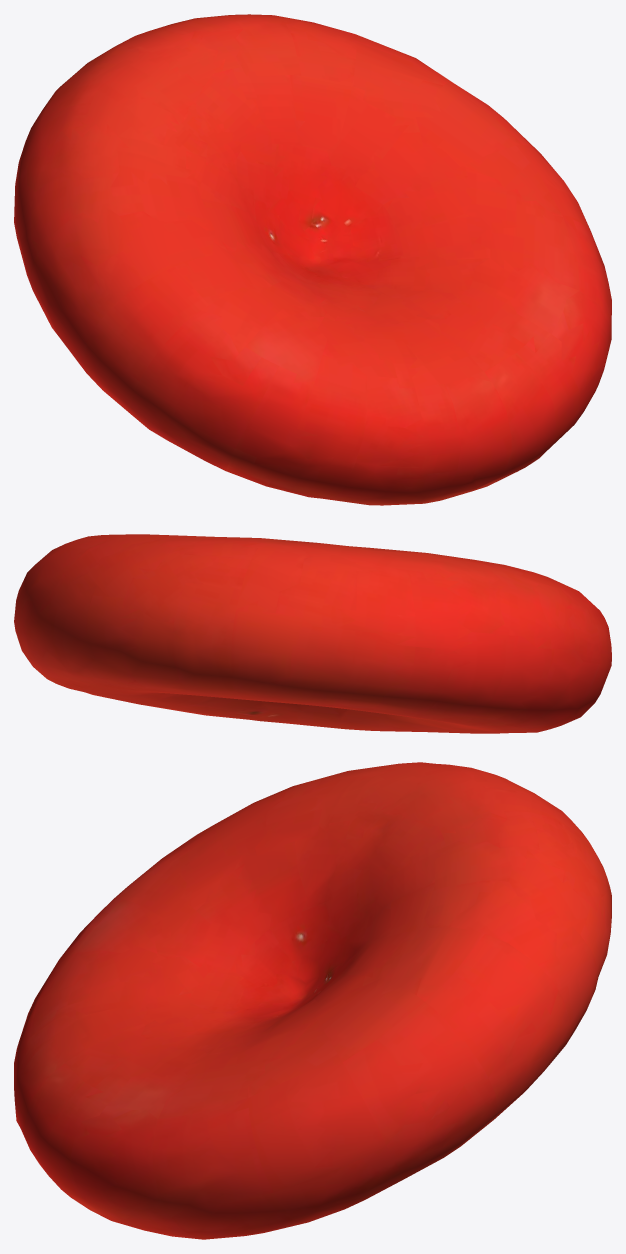
The model's file is rbc.glb.
The picture shows the model from 3 angles, top to bottom: view 1: azimuth 30°, elevation 25°; view 2: azimuth 150°, elevation 25°; view 3: azimuth 270°, elevation 25°; orthographic projection. The views are drawn at different scales.
Bounding box in the file's own units: 2 × 1.2 × 1.9.
Materials: 1 (1 with a texture image).
